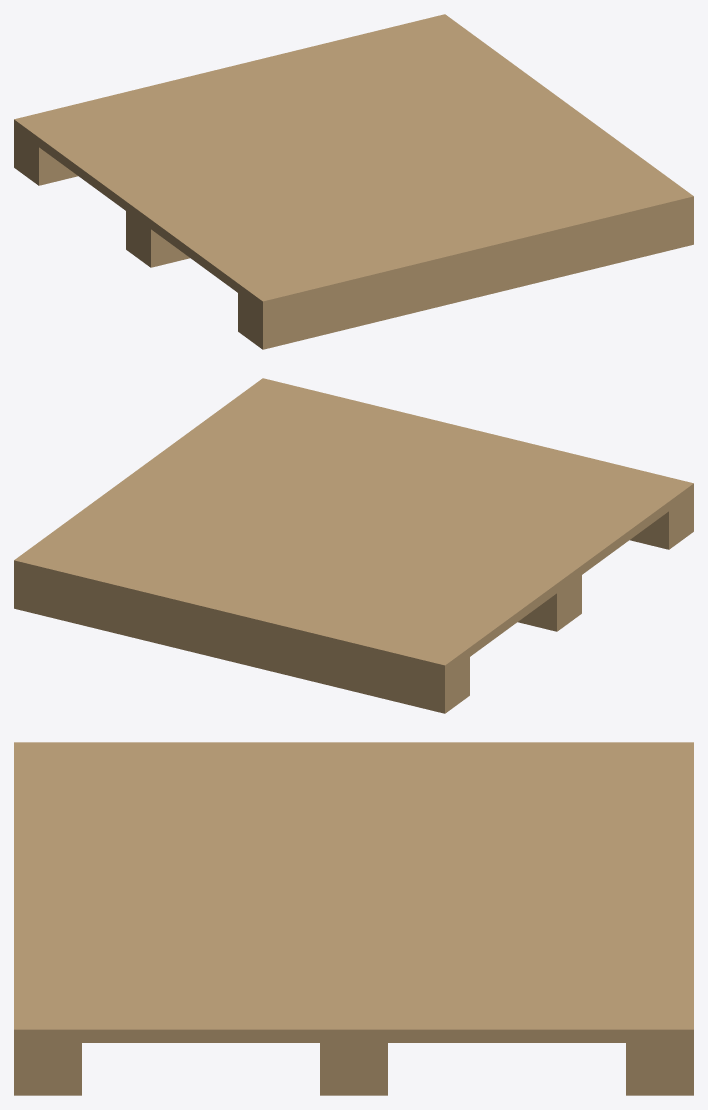
Rendered from pallet_mp_00.glb.
3 views of the same model, one above another, from view 1: azimuth 30°, elevation 25°; view 2: azimuth 150°, elevation 25°; view 3: azimuth 270°, elevation 25° (orthographic). The views are drawn at different scales.
Visible parts, largest first — view 1: PalletMP; view 2: PalletMP; view 3: PalletMP.
Boxes of the visible parts, bbox=[...] form: PalletMP: bbox=[14, 14, 693, 349]; PalletMP: bbox=[14, 378, 693, 713]; PalletMP: bbox=[14, 742, 693, 1095].
Bounding box in the file's own units: 1 × 0.1071 × 1.
